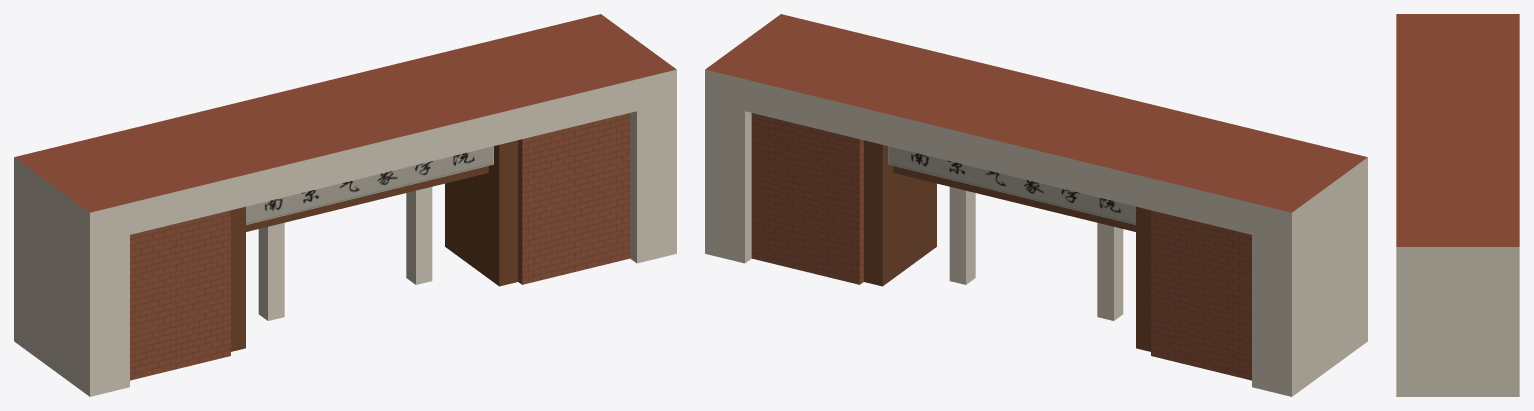
Rendered from laoxiaomen.glb.
3 renders of one model, left to right at view 1: azimuth 30°, elevation 25°; view 2: azimuth 150°, elevation 25°; view 3: azimuth 270°, elevation 25°, orthographic. The views are drawn at different scales.
Visible parts, largest first — view 1: 老校门; view 2: 老校门; view 3: 老校门.
Boxes of the visible parts, bbox=[...] form: 老校门: bbox=[14, 14, 676, 396]; 老校门: bbox=[705, 14, 1367, 396]; 老校门: bbox=[1396, 14, 1519, 396].
Bounding box in the file's own units: 25 × 7.5 × 5.6.
Materials: 6 (2 with a texture image).
